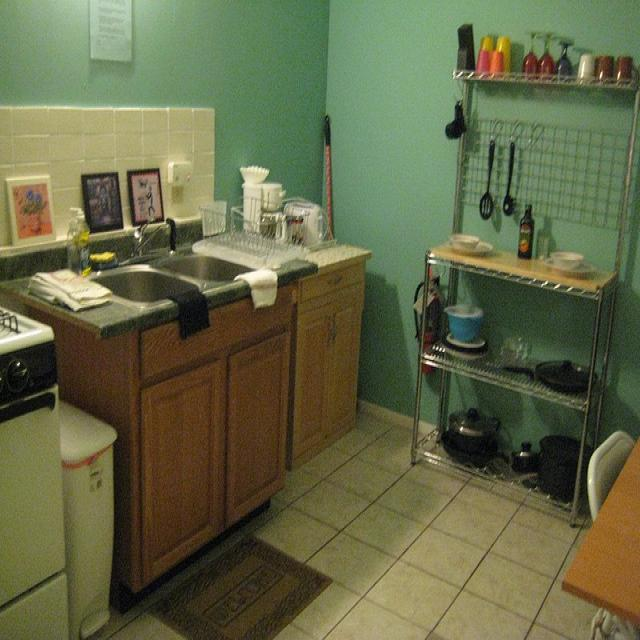chair: (588, 430, 639, 523)
dining table: (563, 445, 640, 622)
